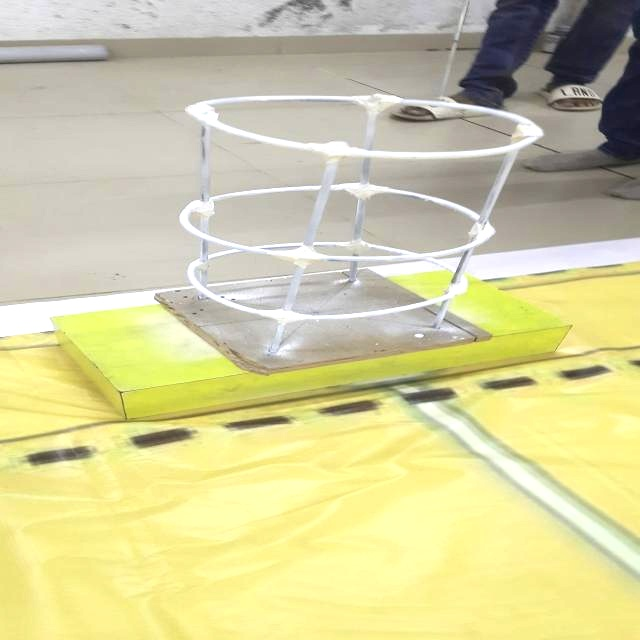silo: (148, 86, 535, 357)
